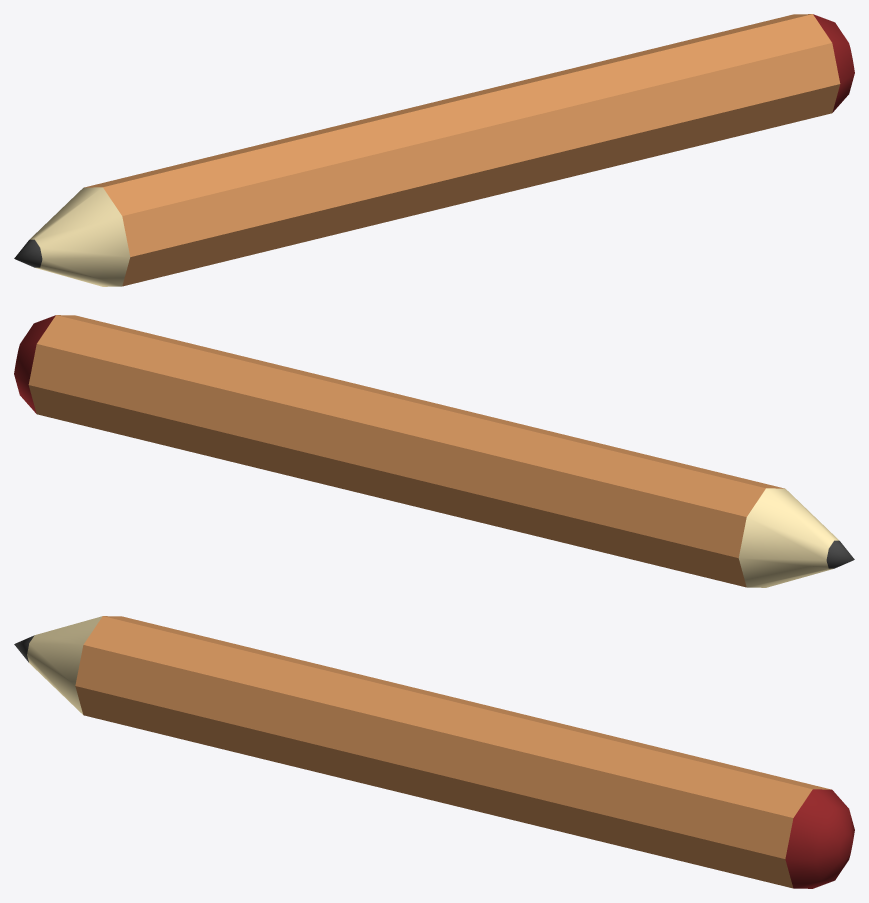
Rendered from Pencil.fbx.
The picture shows the model from 3 angles, top to bottom: view 1: azimuth 30°, elevation 25°; view 2: azimuth 150°, elevation 25°; view 3: azimuth 330°, elevation 25°; orthographic projection.
Visible parts, largest first — view 1: Pencil; view 2: Pencil; view 3: Pencil.
Boxes of the visible parts, <box> form: Pencil: <box>14,14,854,286</box>; Pencil: <box>14,315,854,587</box>; Pencil: <box>14,616,854,888</box>.
Size of the model in its own units: 479 by 54.77 by 54.77.
